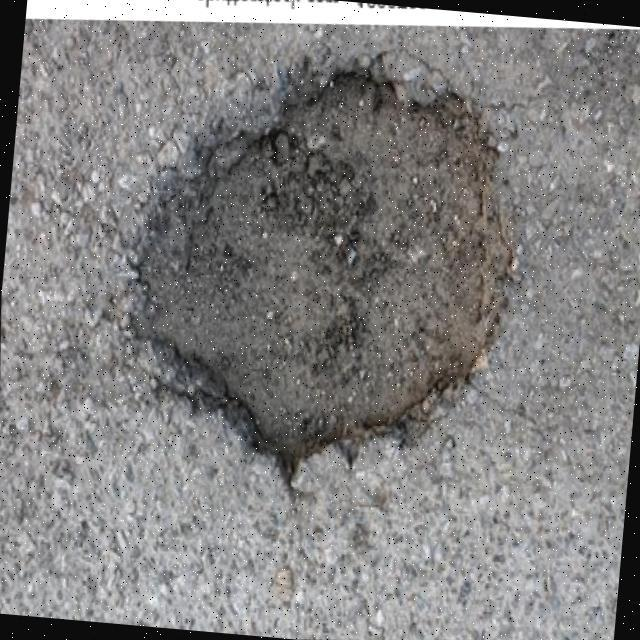Pothole: (114, 52, 517, 478)
